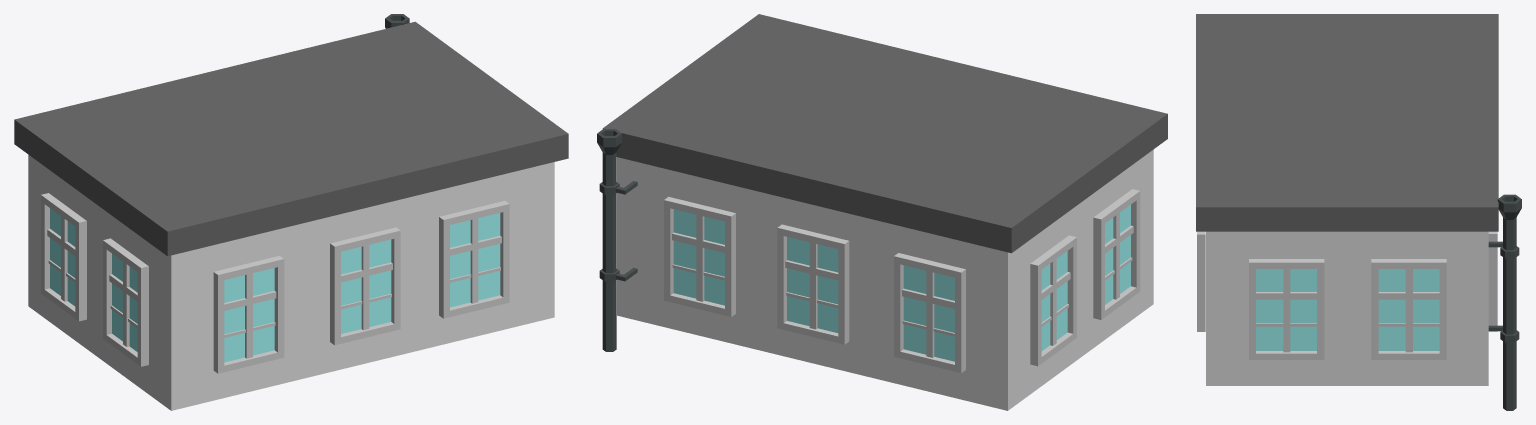
The model's file is floor.glb.
The picture shows the model from 3 angles, left to right: view 1: azimuth 30°, elevation 25°; view 2: azimuth 150°, elevation 25°; view 3: azimuth 270°, elevation 25°; orthographic projection. The views are drawn at different scales.
Visible parts, largest first — view 1: room top, room, window_6, window_9, window_5, window_4, window_3; view 2: room top, room, window_8, window_7, window_10, window_3, window_4, pipe; view 3: room top, room, window_1, window_2, pipe, window_5, window_10.
Boxes of the visible parts, x1,y1,x2,y2 form: room top: [14, 21, 568, 256]; room: [28, 155, 554, 410]; window_6: [213, 255, 284, 373]; window_9: [330, 227, 400, 345]; window_5: [439, 201, 509, 318]; window_4: [41, 193, 86, 321]; window_3: [103, 238, 148, 366]; room top: [602, 14, 1167, 253]; room: [617, 149, 1153, 410]; window_8: [777, 224, 849, 344]; window_7: [894, 253, 965, 373]; window_10: [664, 196, 735, 316]; window_3: [1093, 189, 1140, 319]; window_4: [1030, 235, 1076, 366]; pipe: [597, 129, 637, 351]; room top: [1196, 14, 1498, 231]; room: [1206, 231, 1488, 385]; window_1: [1371, 259, 1446, 359]; window_2: [1249, 259, 1324, 359]; pipe: [1488, 194, 1521, 410]; window_5: [1197, 231, 1205, 331]; window_10: [1488, 231, 1497, 331].
Bounding box in the file's own units: 6.8 × 3.43 × 4.85.
